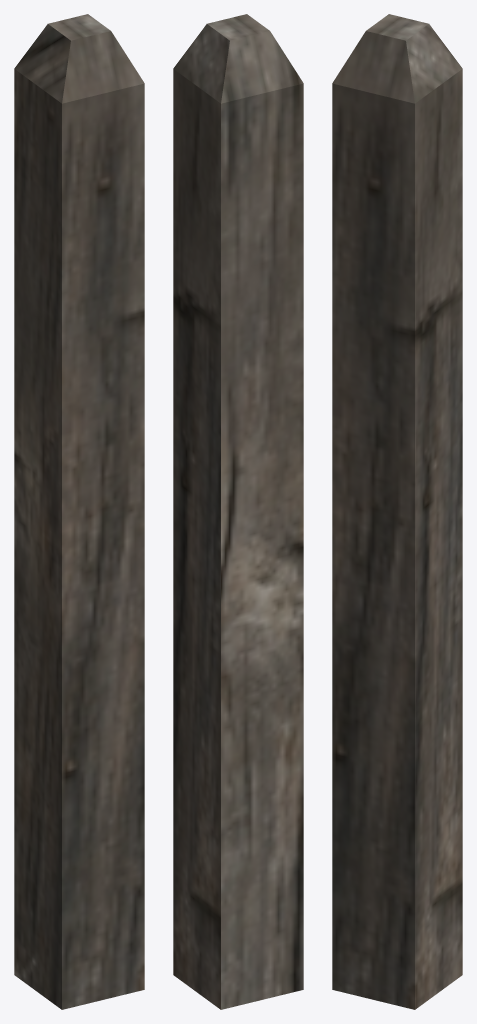
Rendered from FencePole.fbx.
3 views of the same model, side by side, from view 1: azimuth 30°, elevation 25°; view 2: azimuth 210°, elevation 25°; view 3: azimuth 330°, elevation 25° (orthographic).
Visible parts, largest first — view 1: Cube.001; view 2: Cube.001; view 3: Cube.001.
Boxes of the visible parts, box(x1,y1,x2,y2) form: Cube.001: box(14, 14, 144, 1009); Cube.001: box(173, 14, 303, 1009); Cube.001: box(332, 14, 462, 1009).
Bounding box in the file's own units: 38.51 × 425 × 38.51.
1 material, 1 textured.
